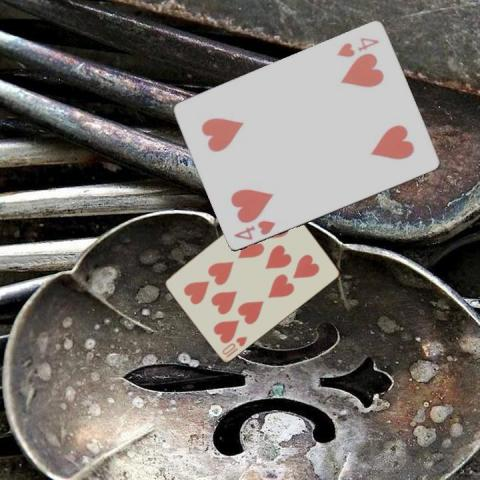10h: (218, 333, 248, 359)
4h: (334, 34, 381, 58), (230, 217, 276, 241)
